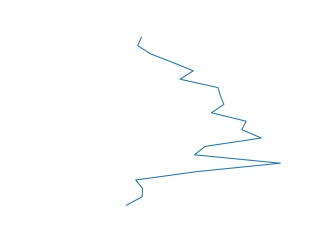floodSwamp: (122, 36, 282, 207)
